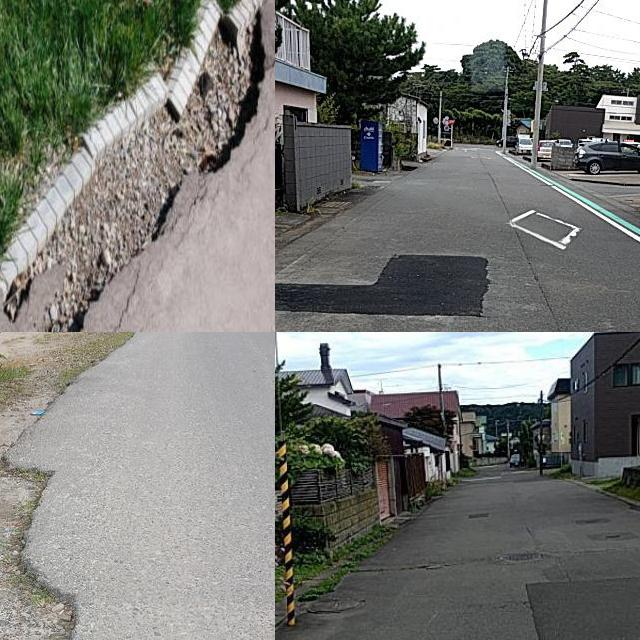Pinggir: (0, 0, 272, 332), (0, 426, 104, 640)
Sambungan: (275, 254, 497, 317)
